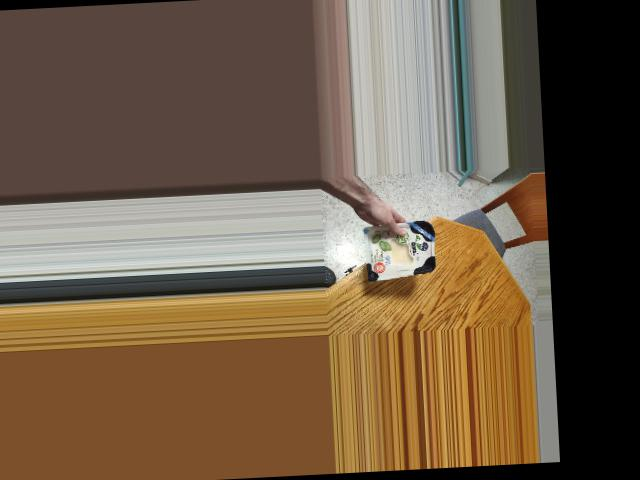cheese: (350, 222, 448, 282)
